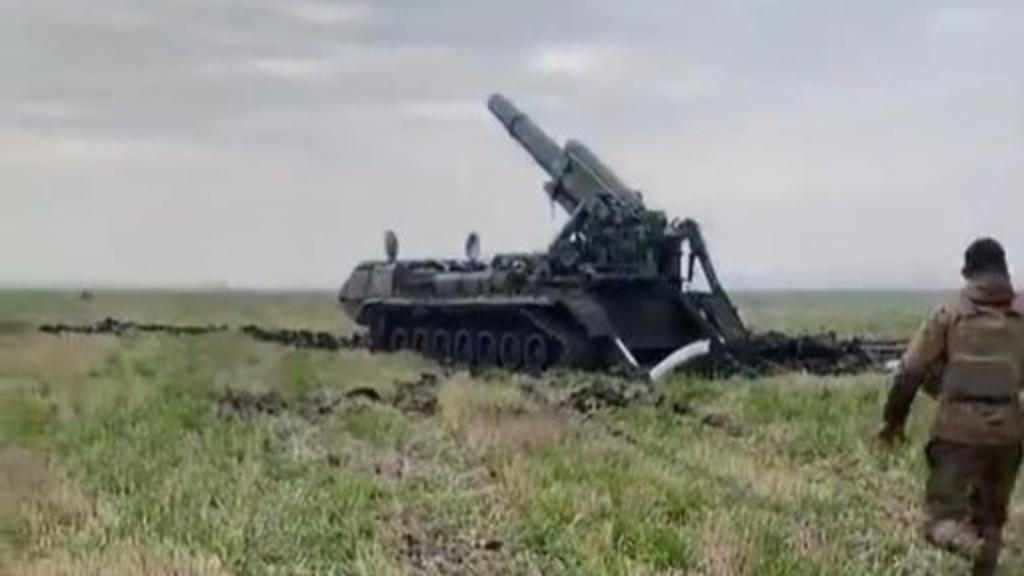ART: (336, 86, 738, 386)
